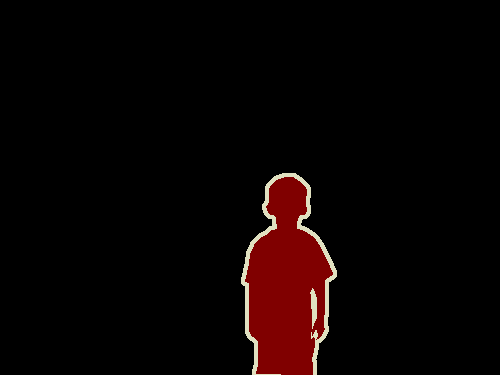person: (242, 173, 337, 375)
person/hand: (246, 318, 266, 344), (312, 321, 326, 343)
person/head: (266, 176, 310, 224)
